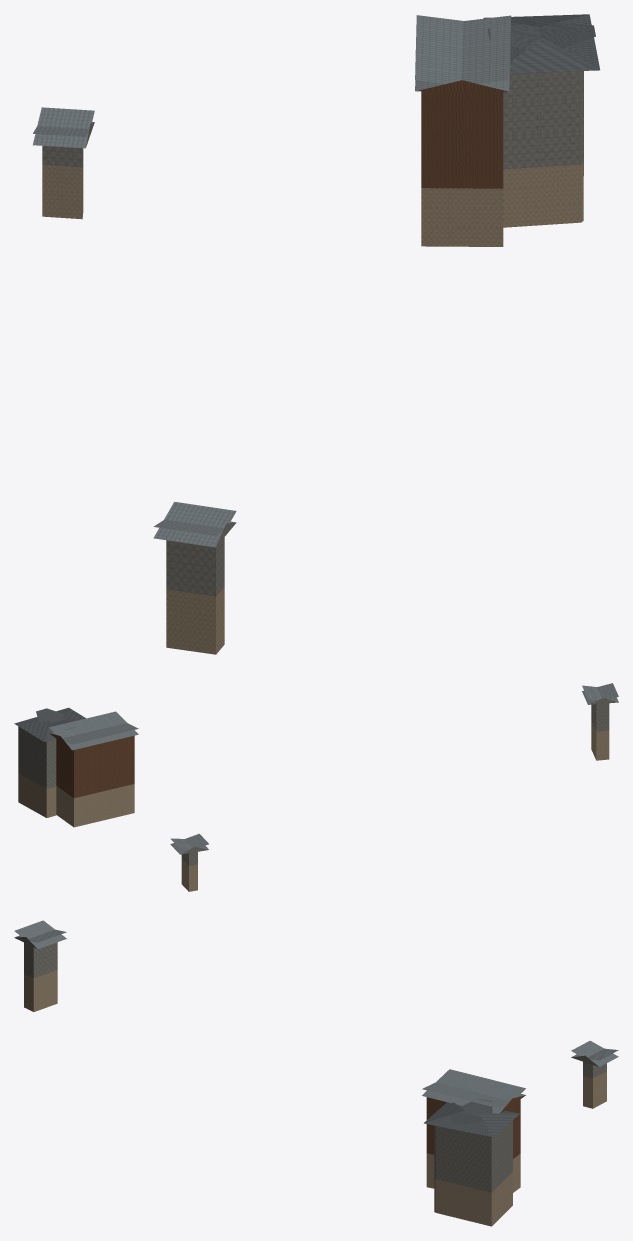
Rendered from bld_c-19_18_520.gltf.
3 renders of one model, top to bottom at view 1: azimuth 30°, elevation 25°; view 2: azimuth 150°, elevation 25°; view 3: azimuth 270°, elevation 25°, orthographic. The views are drawn at different scales.
Parts seen in each view (by area): view 1: bld_c-19_18_520; view 2: bld_c-19_18_520; view 3: bld_c-19_18_520.
Part boxes in pixels (x1,y1,x2,y2): bld_c-19_18_520: (33, 14, 599, 654); bld_c-19_18_520: (14, 683, 618, 891); bld_c-19_18_520: (14, 920, 618, 1226).
Bounding box in the file's own units: 75.27 × 14.9 × 82.33.
7 materials, 7 textured.
